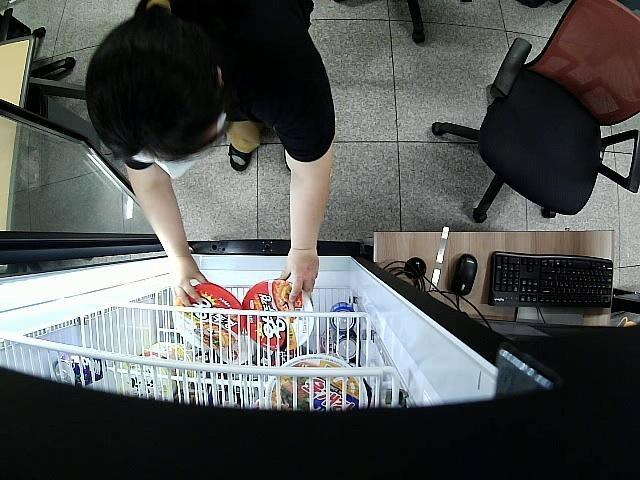10_wangTtukkeong: (245, 279, 312, 351), (176, 283, 242, 350)
